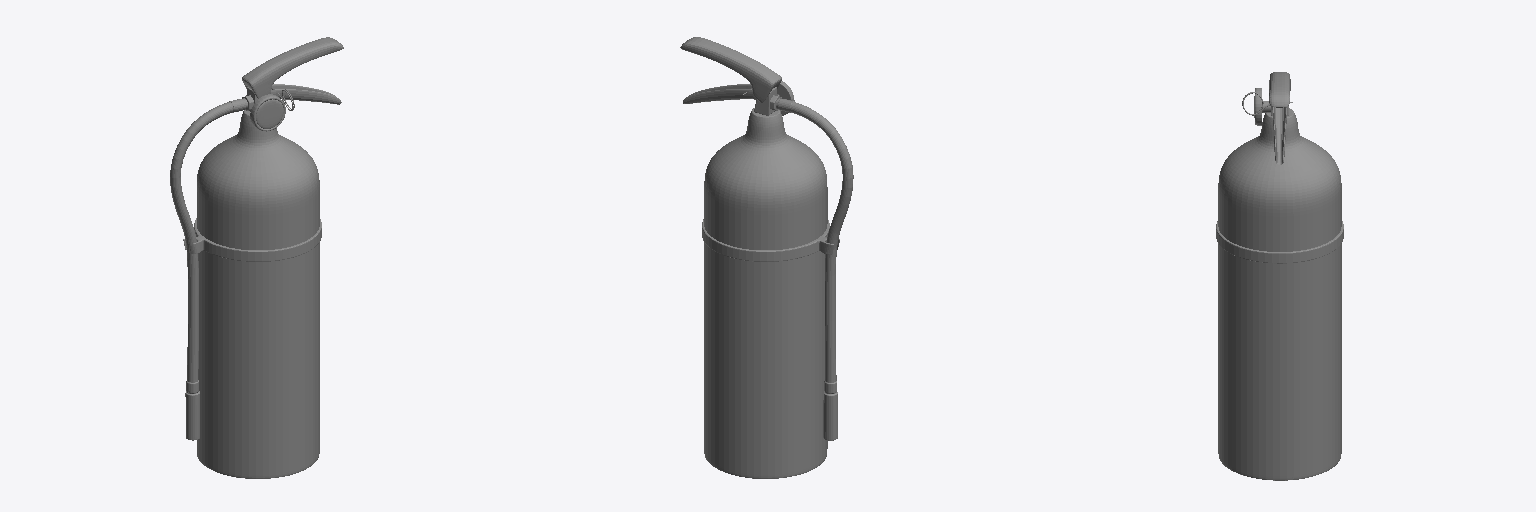
Rendered from extintor.obj.
3 views of the same model, side by side, from view 1: azimuth 30°, elevation 25°; view 2: azimuth 150°, elevation 25°; view 3: azimuth 270°, elevation 25° (orthographic).
Visible parts, largest first — view 1: ogneushitl_n; view 2: ogneushitl_n; view 3: ogneushitl_n.
Boxes of the visible parts, box(x1,y1,x2,y2) form: ogneushitl_n: box(170, 37, 343, 478); ogneushitl_n: box(680, 37, 853, 478); ogneushitl_n: box(1216, 72, 1343, 480).
Size of the model in its own units: 3.29 by 7.35 by 2.14.